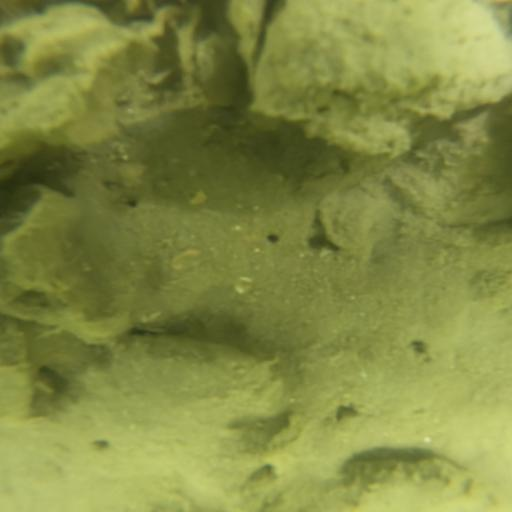Oyster-Closed: (365, 103, 512, 230)
Oyster-Open: (234, 1, 512, 168)
